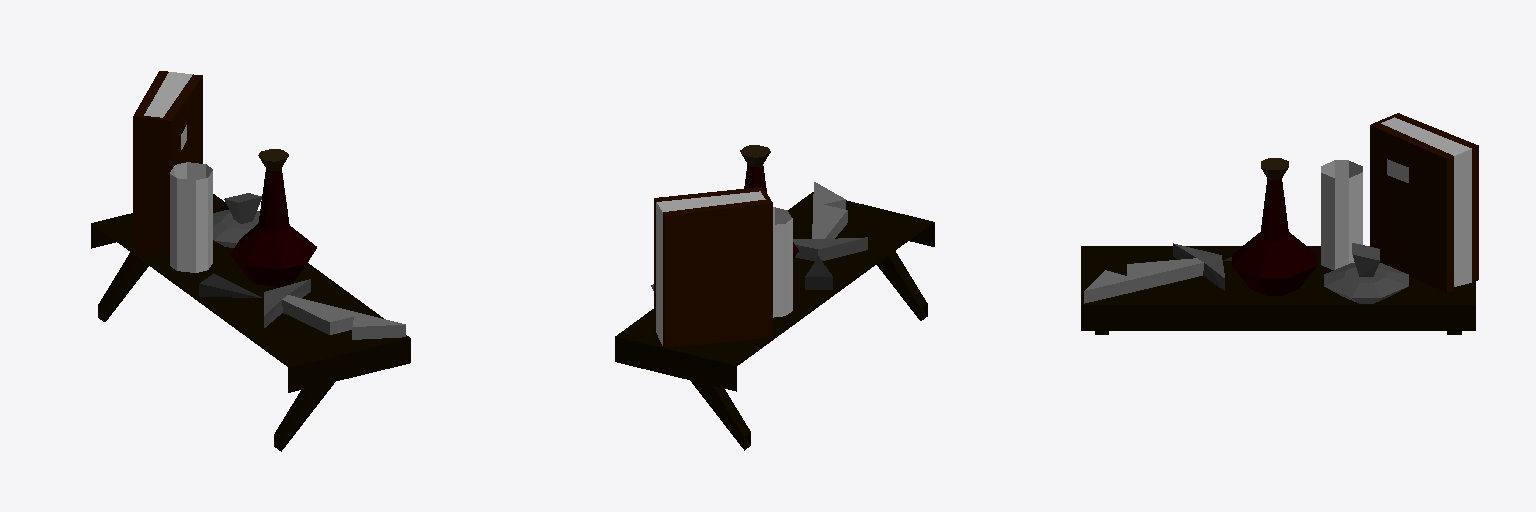
The model's file is potions_station.obj.
3 renders of one model, left to right at view 1: azimuth 30°, elevation 25°; view 2: azimuth 150°, elevation 25°; view 3: azimuth 270°, elevation 25°, orthographic.
Bounding box in the file's own units: 44 × 70 × 113.